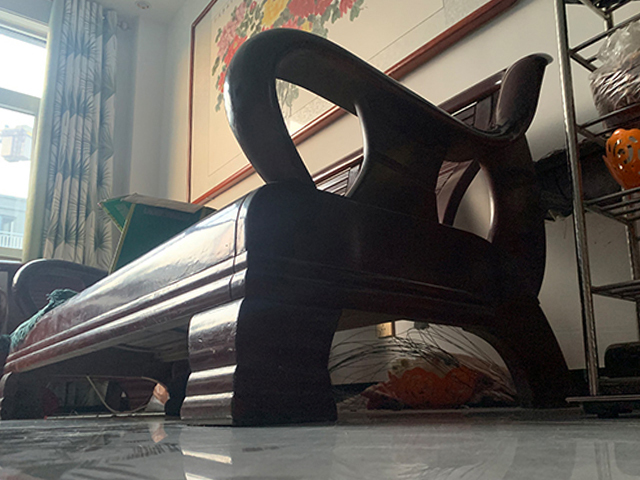curtain: (19, 3, 117, 267)
sofa: (1, 27, 575, 428)
